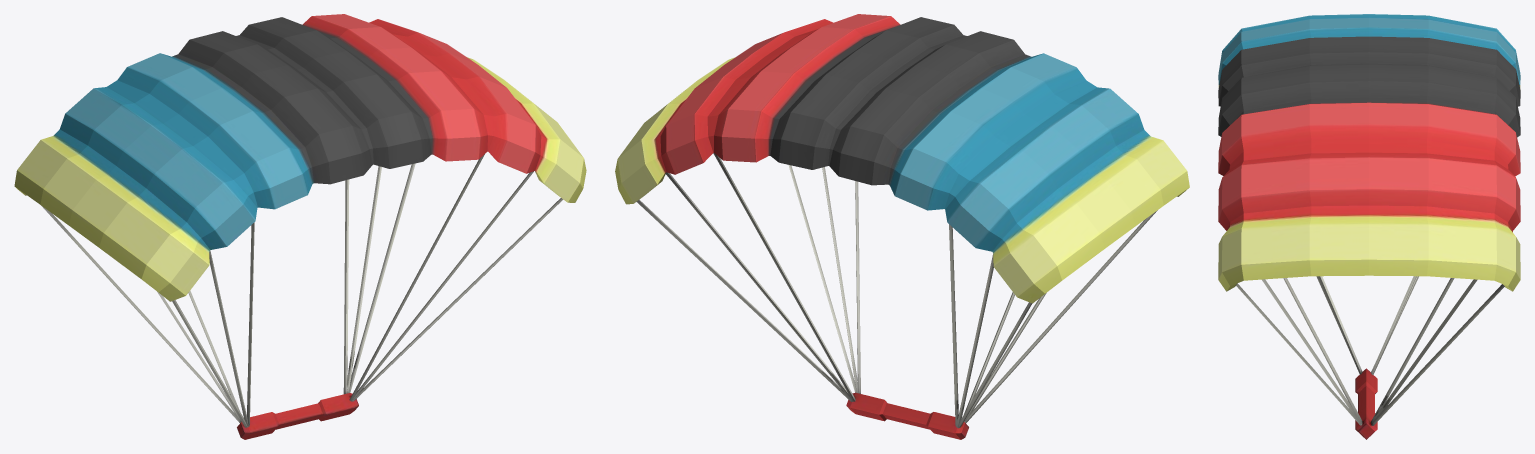
File: parachute.glb
3 views of the same model, side by side, from view 1: azimuth 30°, elevation 25°; view 2: azimuth 150°, elevation 25°; view 3: azimuth 270°, elevation 25° (orthographic).
Visible parts, largest first — view 1: Parachute_mesh; view 2: Parachute_mesh; view 3: Parachute_mesh.
Part boxes in pixels (x1,y1,x2,y2): Parachute_mesh: [14, 14, 586, 439]; Parachute_mesh: [615, 14, 1189, 439]; Parachute_mesh: [1218, 14, 1520, 439].
Bounding box in the file's own units: 9.11 × 6.83 × 5.22.
1 material, 1 textured.
